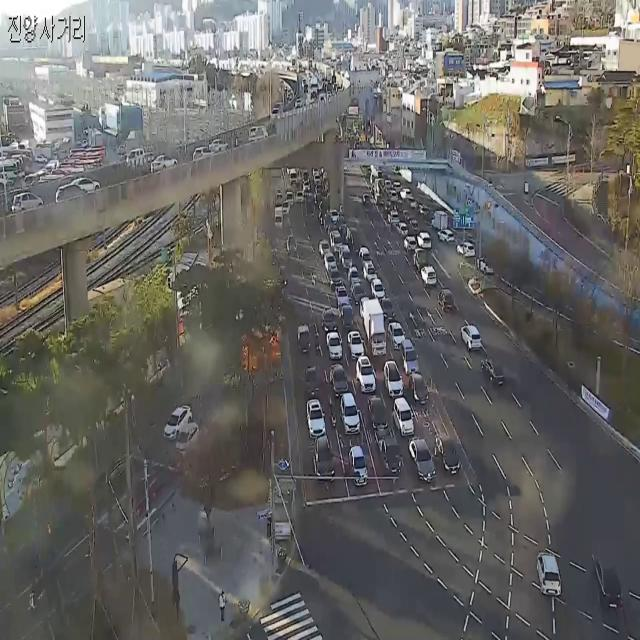motorcycle: (582, 523, 625, 620), (528, 536, 561, 602), (474, 354, 516, 396), (406, 431, 436, 486), (343, 436, 370, 490), (374, 436, 406, 481), (312, 301, 348, 339), (308, 442, 336, 489), (334, 393, 364, 436), (304, 396, 332, 438), (394, 396, 418, 444), (353, 351, 377, 399), (438, 427, 461, 476), (435, 283, 460, 321), (328, 365, 356, 397), (367, 396, 390, 434), (305, 358, 325, 401), (412, 375, 434, 411), (384, 363, 408, 396), (324, 333, 348, 366), (453, 233, 478, 264), (460, 322, 484, 354), (280, 226, 301, 262), (398, 337, 421, 369), (436, 220, 458, 251), (298, 321, 316, 358), (350, 325, 366, 366), (475, 250, 495, 282), (370, 274, 391, 304), (419, 258, 438, 291), (388, 320, 409, 344), (362, 260, 381, 286), (418, 227, 436, 254), (338, 280, 354, 310), (328, 258, 343, 290), (410, 247, 432, 268), (331, 228, 346, 258), (339, 244, 355, 271), (346, 265, 360, 295), (324, 250, 338, 279), (316, 234, 330, 262), (270, 185, 284, 212), (398, 188, 418, 206), (407, 214, 421, 239), (358, 247, 376, 266), (386, 200, 400, 224), (401, 235, 417, 255), (411, 200, 432, 215), (393, 217, 407, 238)
truck: (361, 293, 392, 355), (430, 208, 450, 235), (272, 200, 287, 230)
